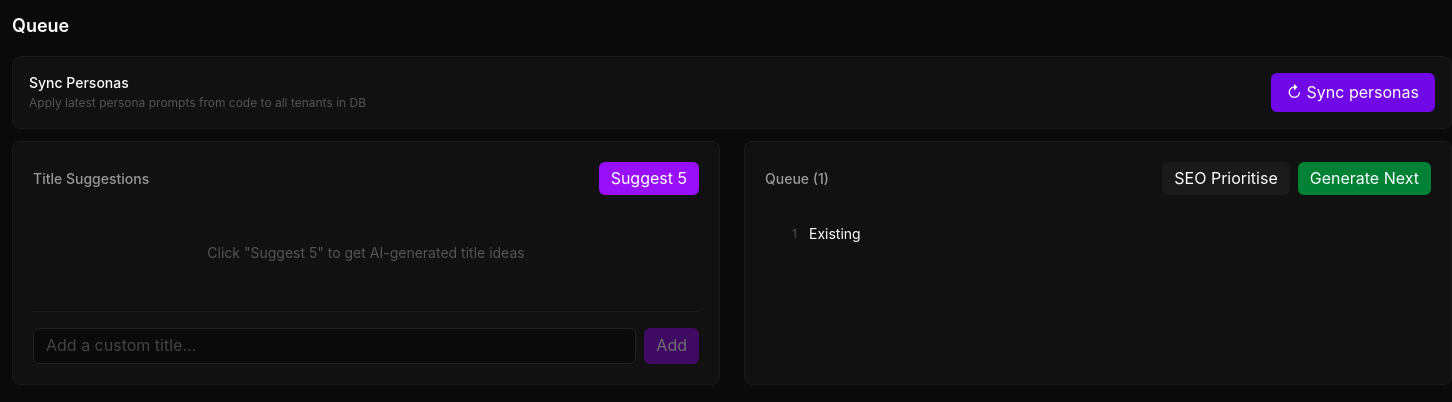
QueueComponent — custom title input › enables the add button when input has text
In the field with test id "custom-title-input": (335, 346) [33,328,636,364], type "World Cup Final"
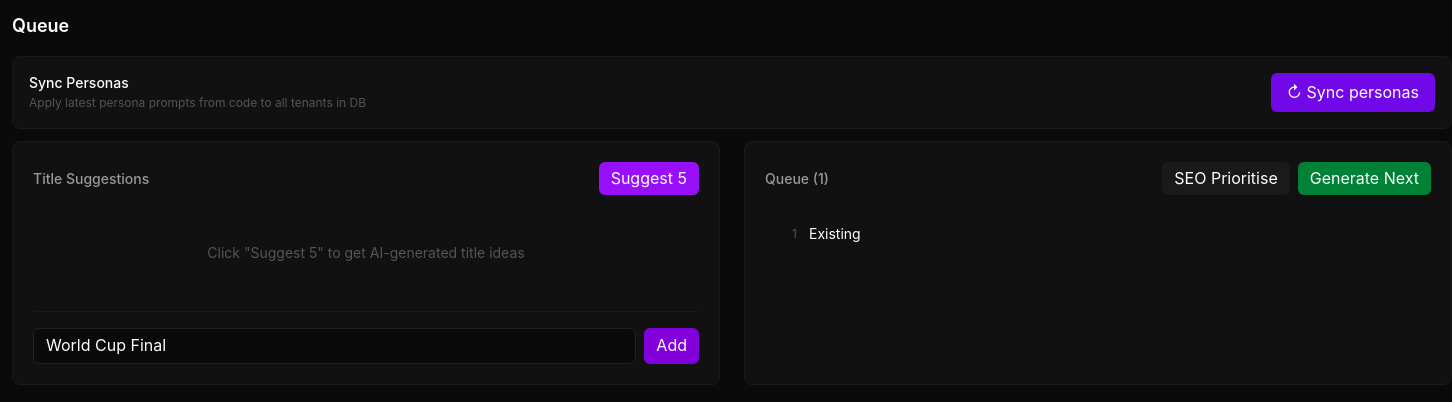
Expected: the button with test id "custom-title-btn" is enabled, [644,328,699,364]
